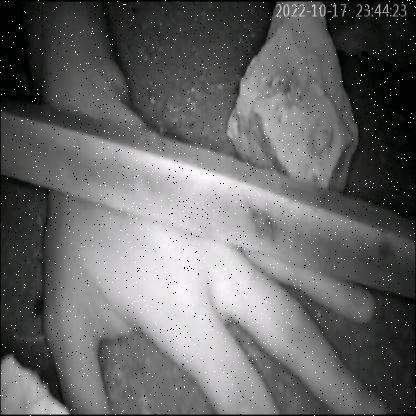hand: (7, 54, 416, 416)
